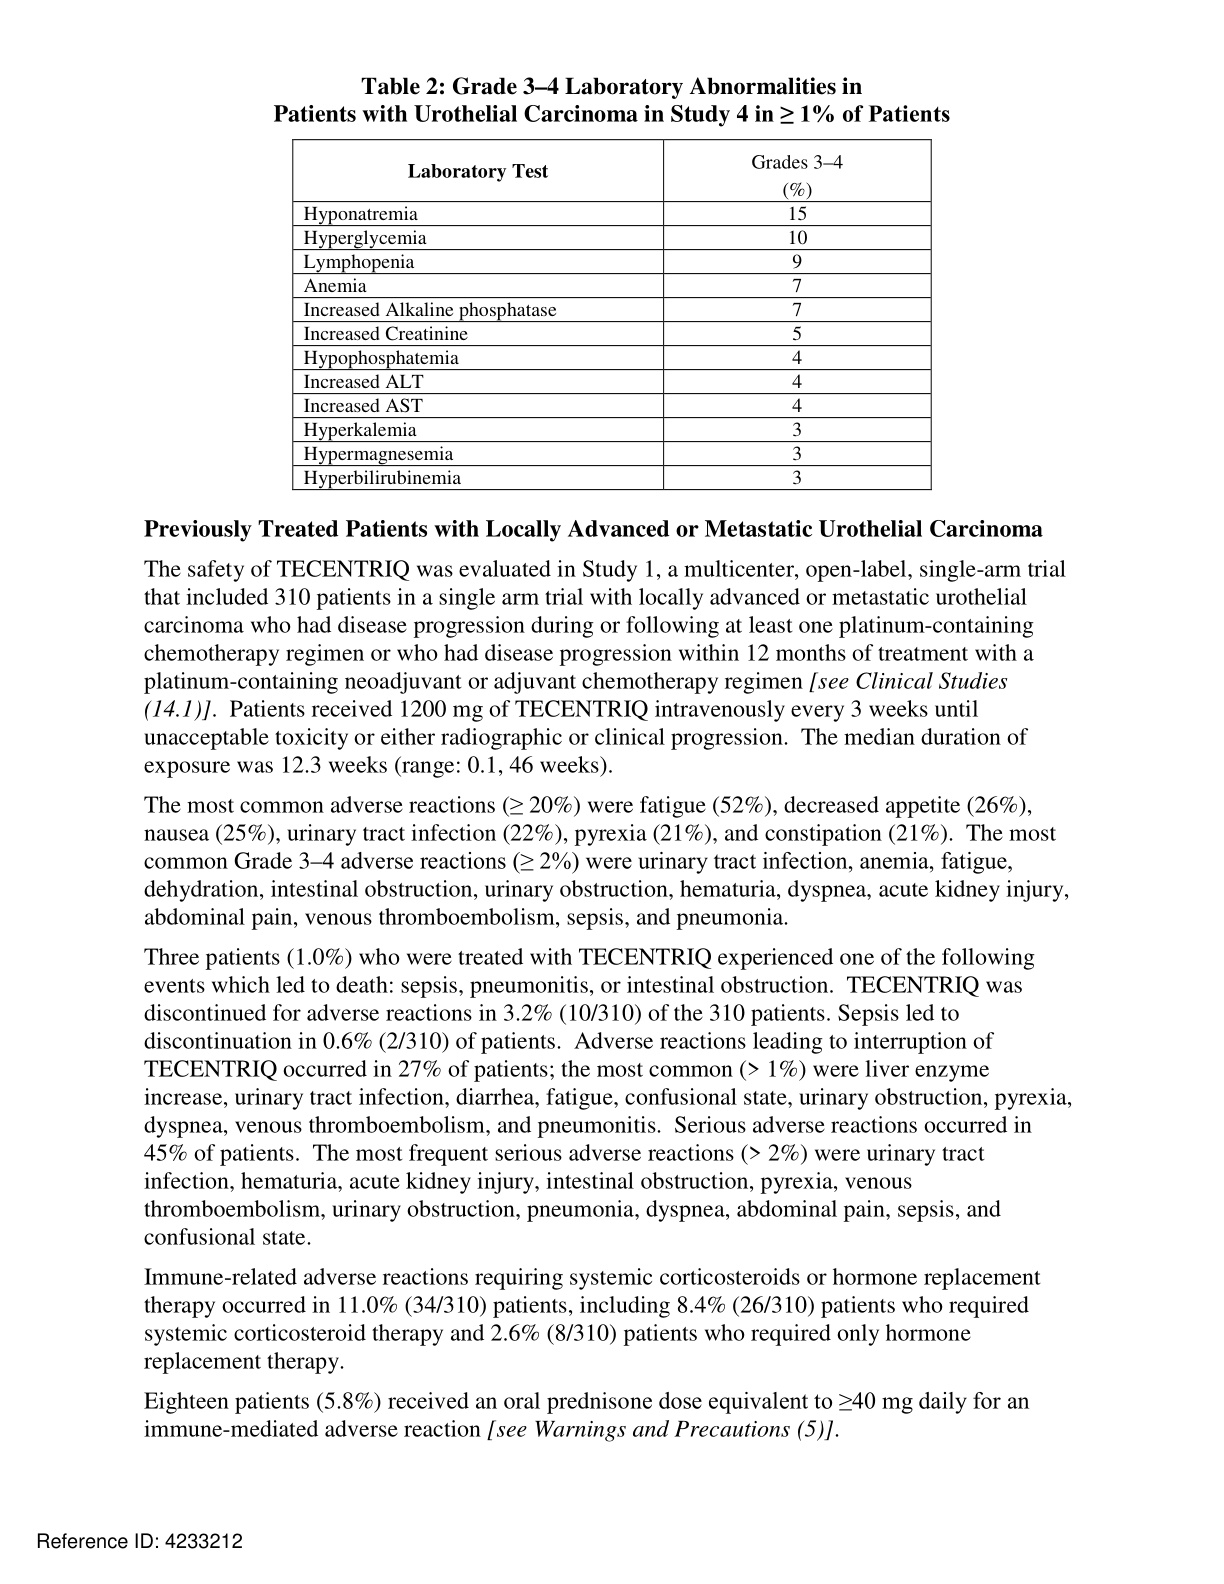full_lined: (291, 138, 932, 491)
